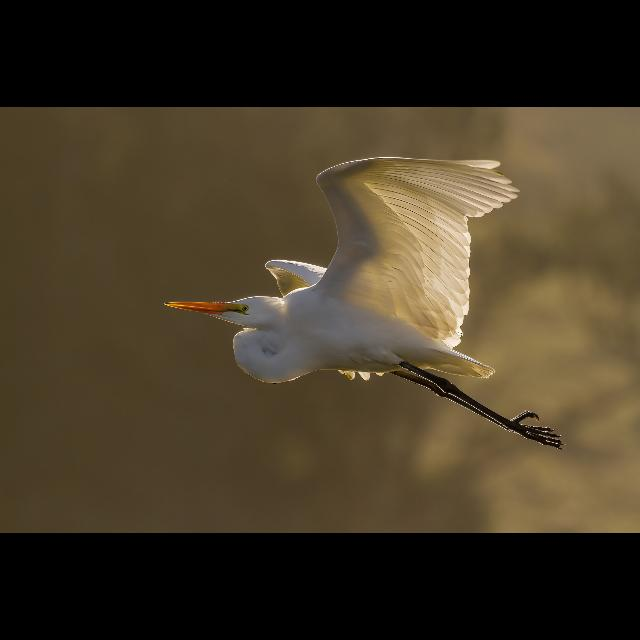egret: (156, 152, 588, 466)
